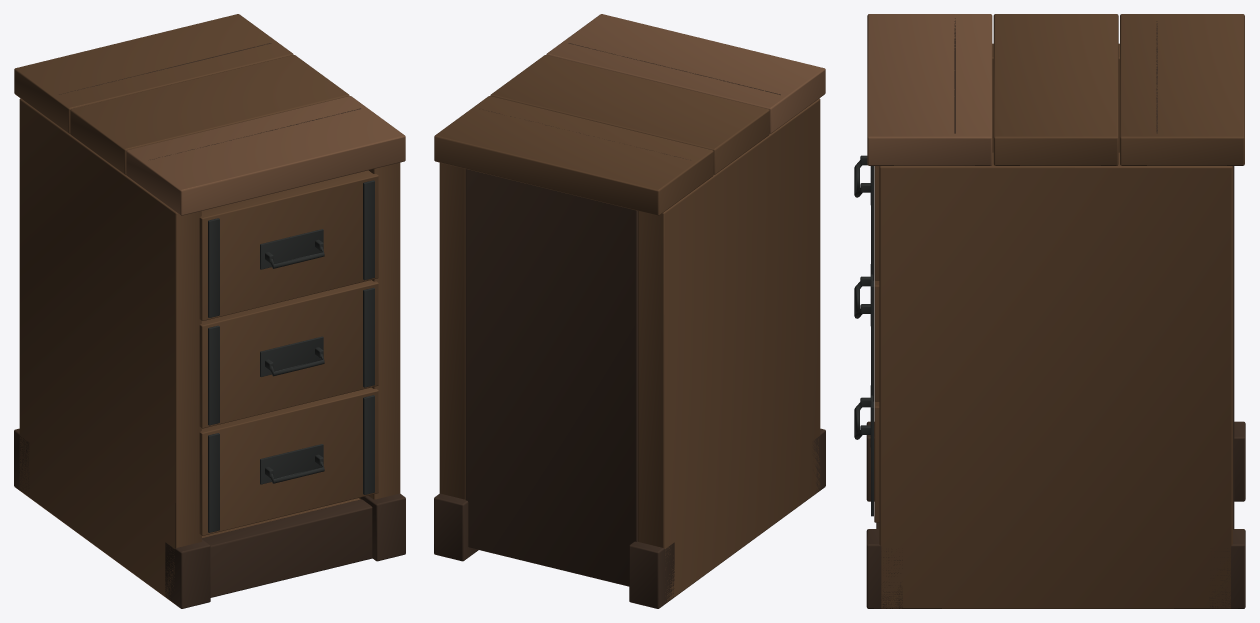
The model's file is kominka-kitchen-counter-450-01.glb.
3 renders of one model, left to right at view 1: azimuth 30°, elevation 25°; view 2: azimuth 150°, elevation 25°; view 3: azimuth 270°, elevation 25°, orthographic. The views are drawn at different scales.
Visible parts, largest first — view 1: kominka-kitchen-counter-450-01; view 2: kominka-kitchen-counter-450-01; view 3: kominka-kitchen-counter-450-01.
Part boxes in pixels (bbox=[...]): kominka-kitchen-counter-450-01: bbox=[14, 14, 405, 608]; kominka-kitchen-counter-450-01: bbox=[434, 14, 825, 608]; kominka-kitchen-counter-450-01: bbox=[854, 14, 1245, 608].
Bounding box in the file's own units: 0.45 × 0.8 × 0.6.
